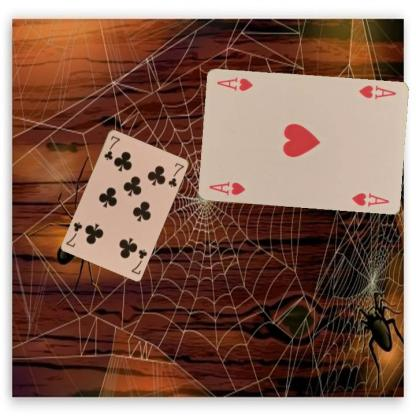7c: (128, 246, 148, 276), (101, 133, 121, 161)
Ah: (356, 83, 397, 101), (206, 179, 246, 197)
